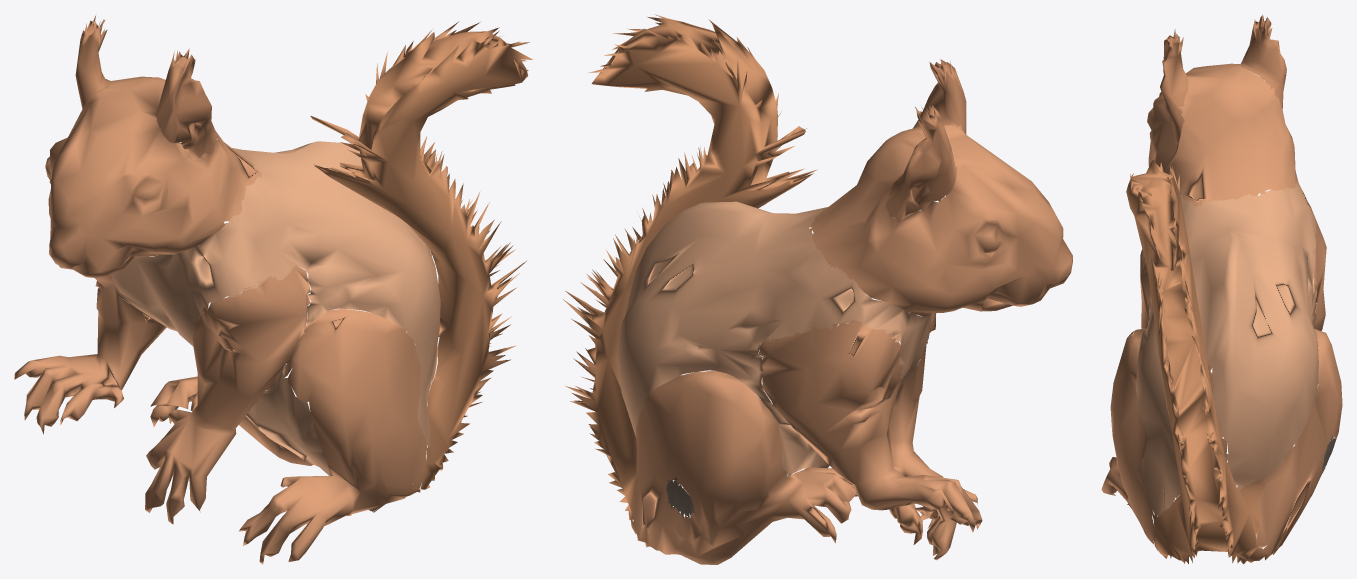
Rendered from squirrel.glb.
The picture shows the model from 3 angles, left to right: view 1: azimuth 30°, elevation 25°; view 2: azimuth 150°, elevation 25°; view 3: azimuth 270°, elevation 25°; orthographic projection. The views are drawn at different scales.
Parts seen in each view (by area): view 1: part8, part1, part5, part9, part3, part0, part4, part7, part6; view 2: part8, part5, part1, part7, part0, part6, part3, part4, part9, part2; view 3: part8, part1, part5, part7, part9, part6, part4, part0, part3.
Boxes of the visible parts, <box> form: part8: <box>110,141,440,512</box>; part1: <box>310,21,532,496</box>; part5: <box>45,76,261,277</box>; part9: <box>238,308,427,564</box>; part3: <box>145,265,310,524</box>; part0: <box>14,274,166,434</box>; part4: <box>156,48,217,159</box>; part7: <box>150,252,437,465</box>; part6: <box>75,14,110,108</box>; part8: <box>617,201,934,476</box>; part5: <box>809,123,1072,316</box>; part1: <box>563,14,817,550</box>; part7: <box>631,196,856,564</box>; part0: <box>759,320,982,532</box>; part6: <box>885,103,958,221</box>; part3: <box>889,313,956,560</box>; part4: <box>913,59,966,134</box>; part9: <box>846,481,923,544</box>; part2: <box>666,477,694,518</box>; part8: <box>1136,183,1318,516</box>; part1: <box>1126,160,1277,564</box>; part5: <box>1147,63,1298,206</box>; part7: <box>1256,328,1342,554</box>; part9: <box>1101,328,1153,543</box>; part6: <box>1240,14,1286,108</box>; part4: <box>1160,29,1188,142</box>; part0: <box>1313,215,1326,330</box>; part3: <box>1140,254,1213,386</box>.
Size of the model in its own units: 0.8026 by 0.8188 by 0.405.
